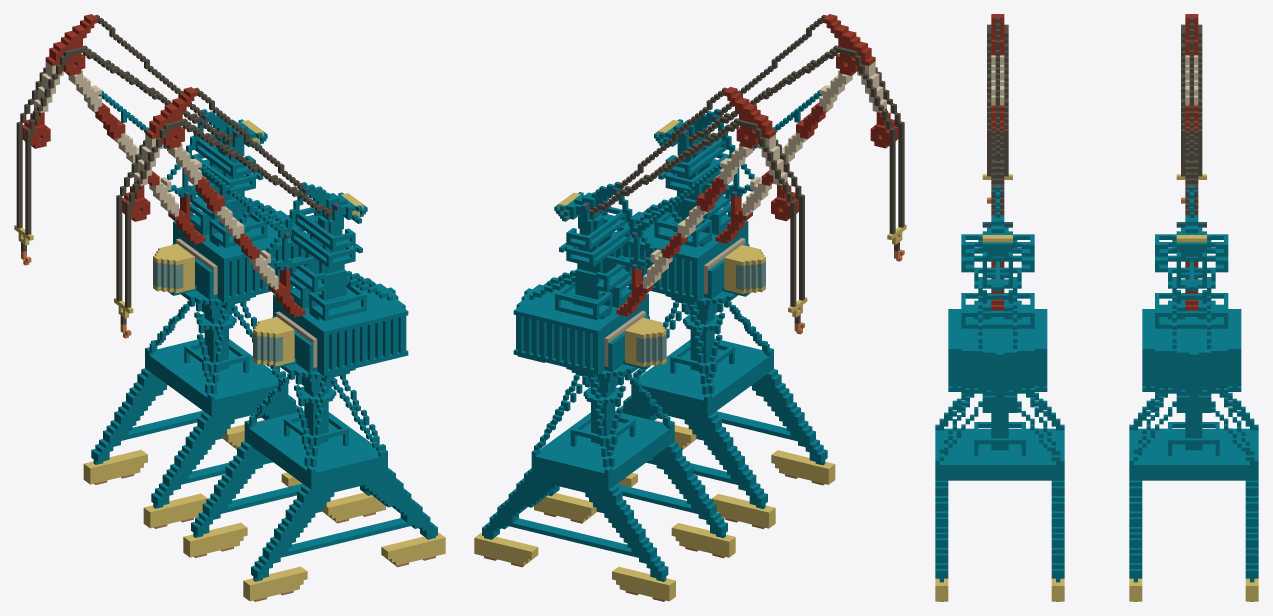
The model's file is crane__blue_bird-lowpoly.glb.
3 renders of one model, left to right at view 1: azimuth 30°, elevation 25°; view 2: azimuth 150°, elevation 25°; view 3: azimuth 270°, elevation 25°, orthographic. The views are drawn at different scales.
Visible parts, largest first — view 1: Geode; view 2: Geode; view 3: Geode.
Part boxes in pixels (<box>): Geode: <box>14,14,445,601</box>; Geode: <box>474,14,906,601</box>; Geode: <box>935,14,1258,601</box>.
Size of the model in its own units: 7.82 by 12.76 by 7.72.
